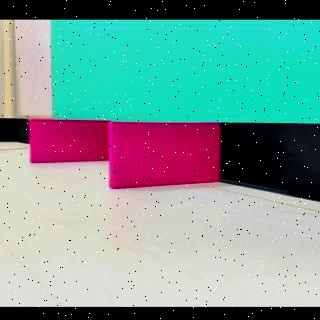xparking: (110, 122, 218, 182), (31, 120, 108, 160)
